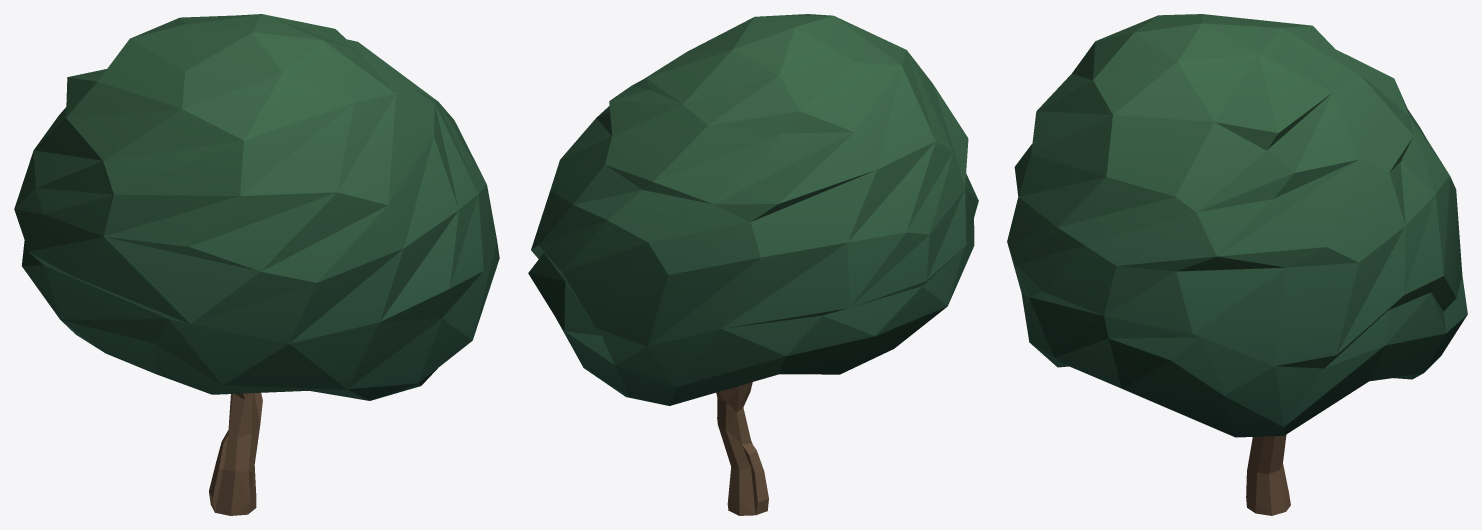
Rendered from lp_pine_02.glb.
3 renders of one model, left to right at view 1: azimuth 30°, elevation 25°; view 2: azimuth 150°, elevation 25°; view 3: azimuth 270°, elevation 25°, orthographic. The views are drawn at different scales.
Parts seen in each view (by area): view 1: tree_2; view 2: tree_2; view 3: tree_2.
Part boxes in pixels (<box>): tree_2: <box>14,14,499,515</box>; tree_2: <box>528,14,978,515</box>; tree_2: <box>1007,14,1467,515</box>.
Size of the model in its own units: 6.77 by 7.73 by 6.79.
